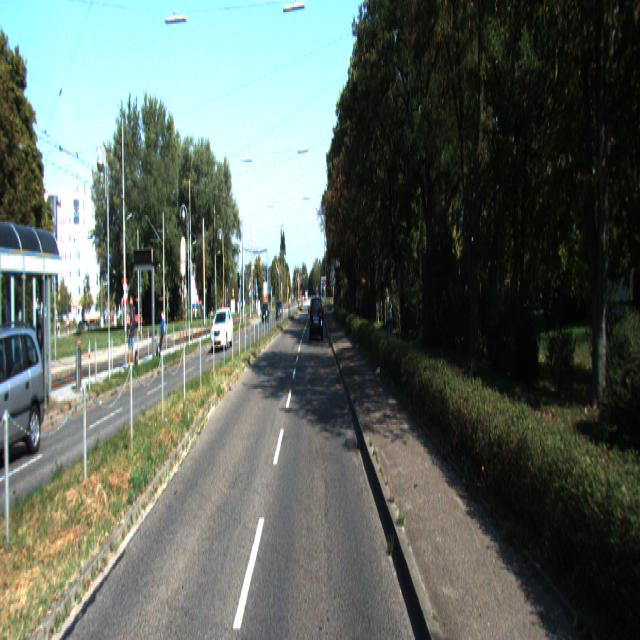Car: (0, 322, 51, 472), (211, 308, 234, 351), (310, 296, 324, 342)
